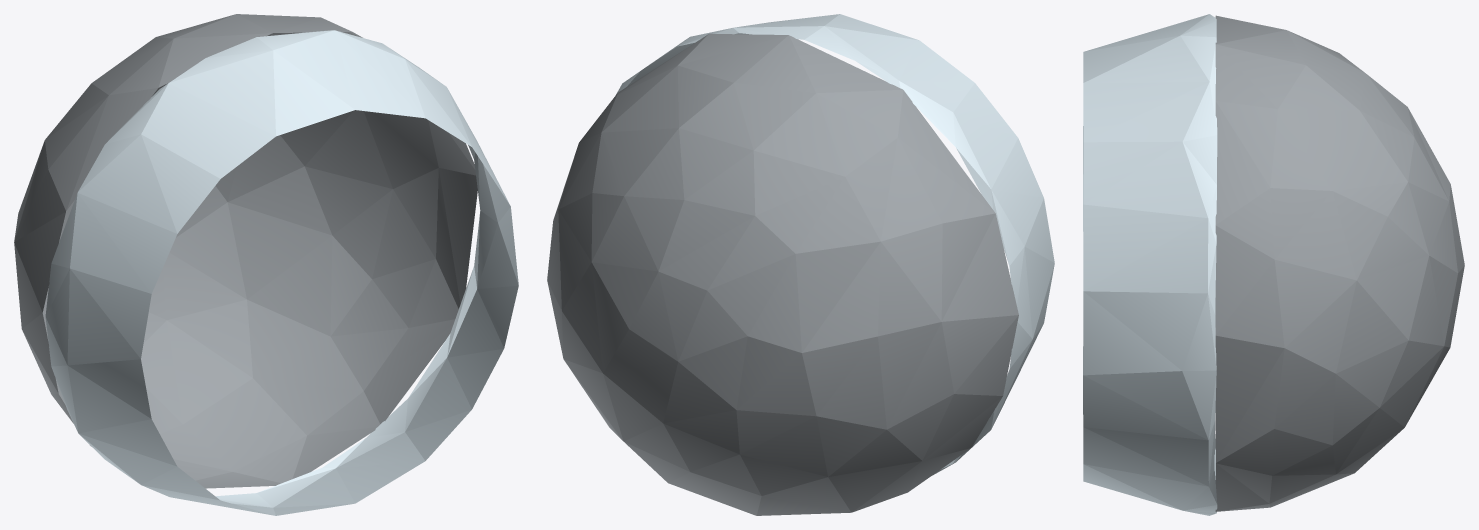
The model's file is bumper.fbx.
The picture shows the model from 3 angles, left to right: view 1: azimuth 30°, elevation 25°; view 2: azimuth 150°, elevation 25°; view 3: azimuth 270°, elevation 25°; orthographic projection.
Visible parts, largest first — view 1: Bumper; view 2: Bumper; view 3: Bumper.
Boxes of the visible parts, x1,y1,x2,y2 form: Bumper: (14, 14, 518, 515); Bumper: (547, 14, 1054, 515); Bumper: (1083, 14, 1464, 515).
Size of the model in its own units: 0.0643 by 0.0641 by 0.049.
